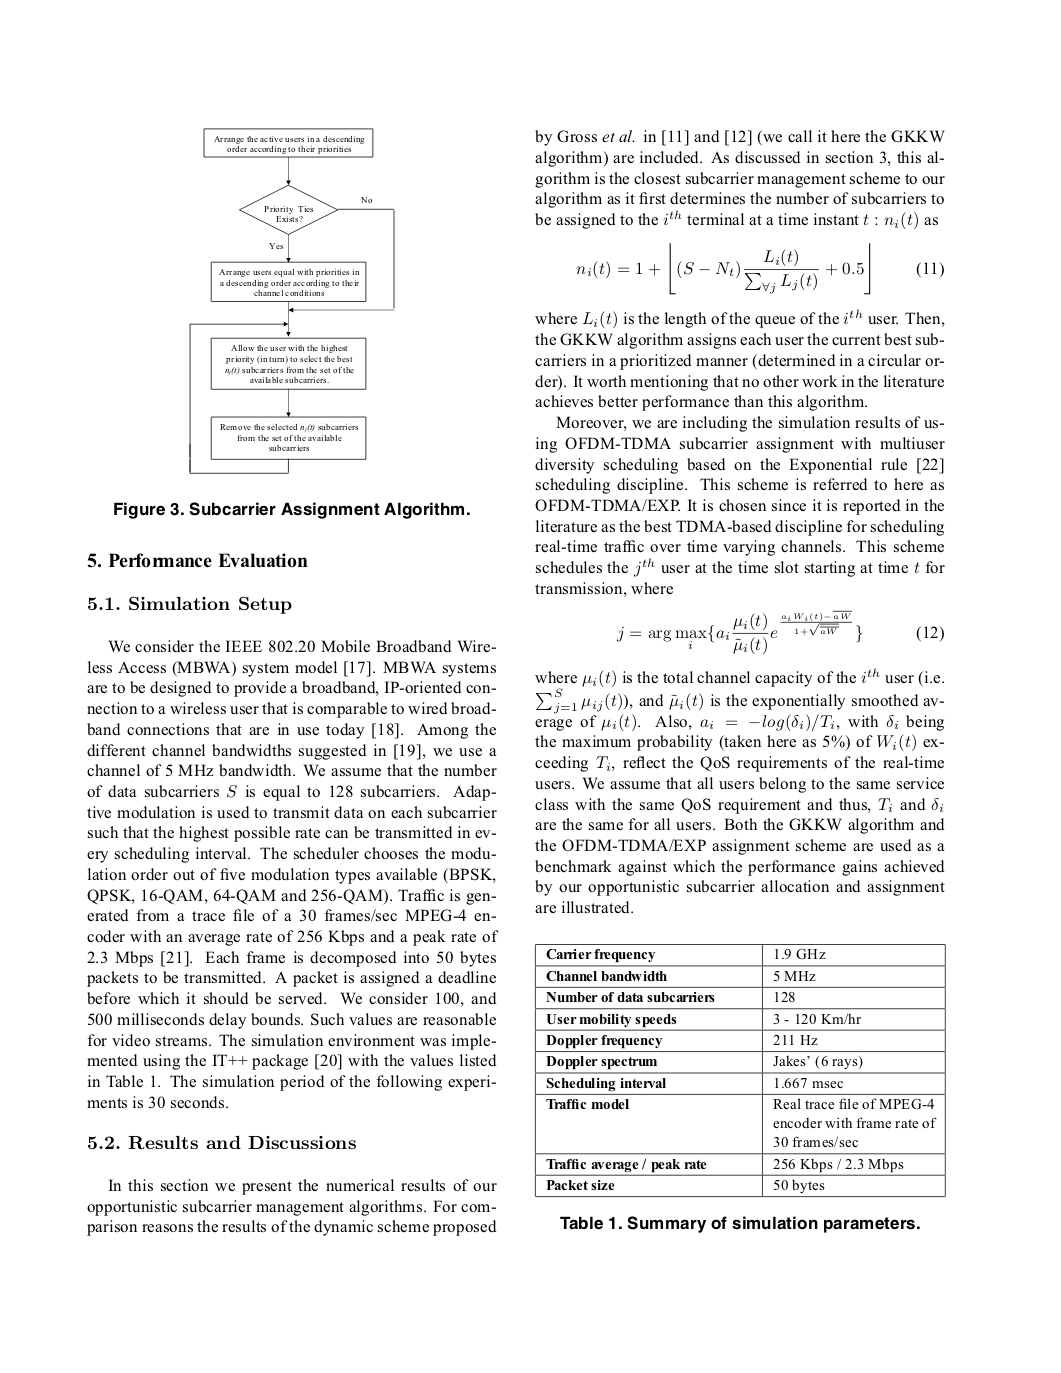Table: (534, 942, 945, 1198)
figure: (189, 127, 395, 474)
formula: (576, 242, 943, 295), (616, 608, 943, 655)
